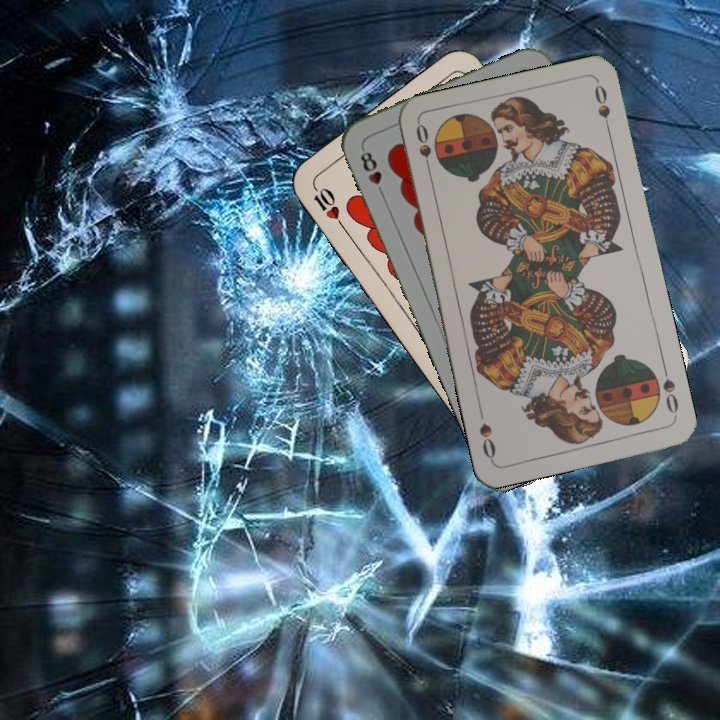H10: (308, 179, 348, 231)
H8: (356, 143, 388, 200)
SO: (411, 120, 435, 179), (658, 362, 681, 421)
